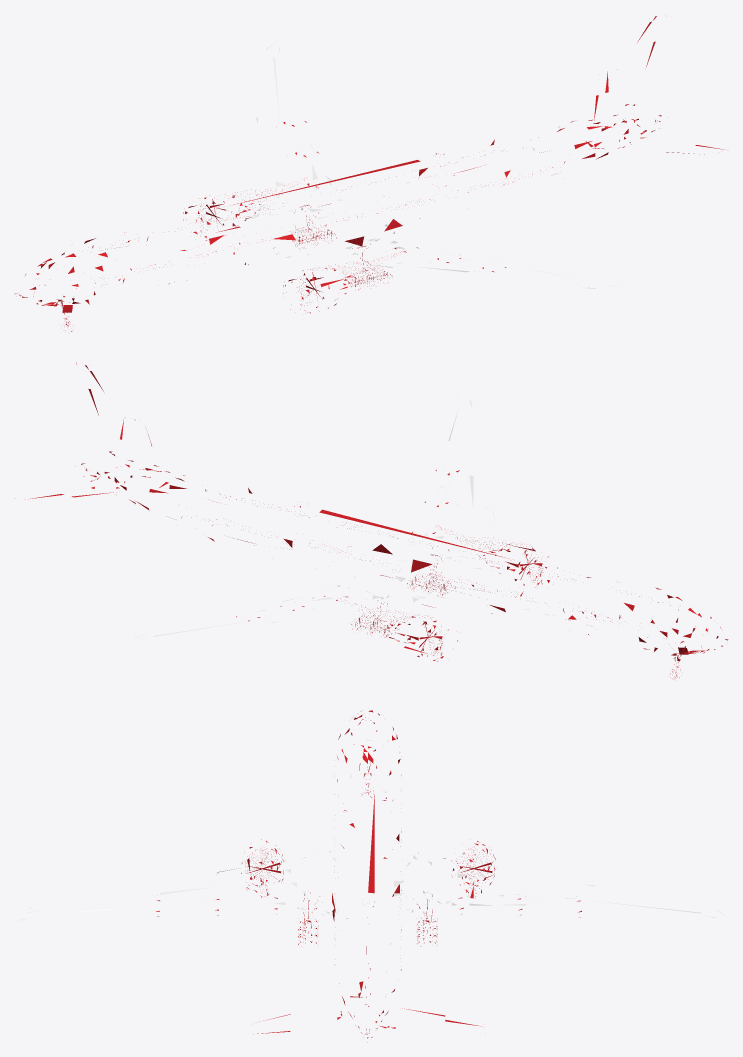
3 renders of one model, top to bottom at view 1: azimuth 30°, elevation 25°; view 2: azimuth 150°, elevation 25°; view 3: azimuth 270°, elevation 25°, orthographic. The views are drawn at different scales.
Visible parts, largest first — view 1: Cylinder001, wing; view 2: Cylinder001, wing; view 3: wing, Cylinder001.
Part boxes in pixels (x1,y1,x2,y2): Cylinder001: [15, 115, 660, 296]; wing: [238, 41, 619, 288]; Cylinder001: [81, 464, 722, 649]; wing: [126, 391, 503, 638]; wing: [18, 851, 724, 920]; Cylinder001: [368, 710, 401, 1037].
Bounding box in the file's own units: 48.76 × 12.14 × 43.33.
